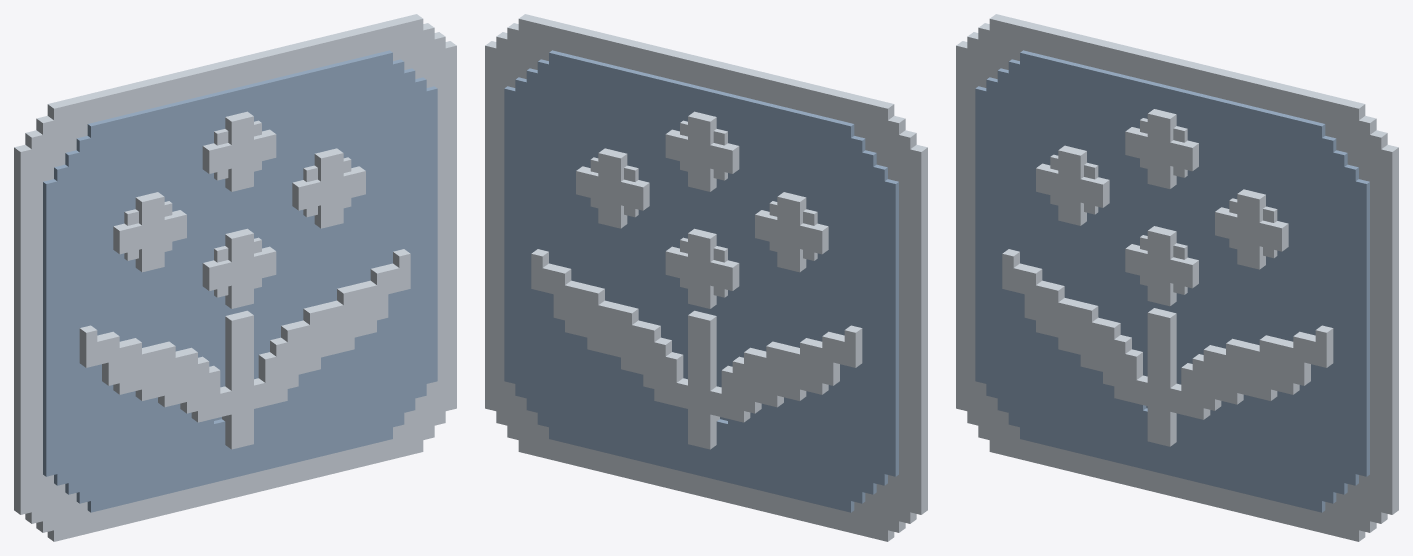
Rendered from flower.fbx.
3 views of the same model, side by side, from view 1: azimuth 30°, elevation 25°; view 2: azimuth 150°, elevation 25°; view 3: azimuth 330°, elevation 25° (orthographic).
Visible parts, largest first — view 1: generated; view 2: generated; view 3: generated.
Boxes of the visible parts, <box> form: generated: <box>14,14,456,541</box>; generated: <box>485,14,927,541</box>; generated: <box>956,14,1398,541</box>.
Bounding box in the file's own units: 390 × 370 × 40.
